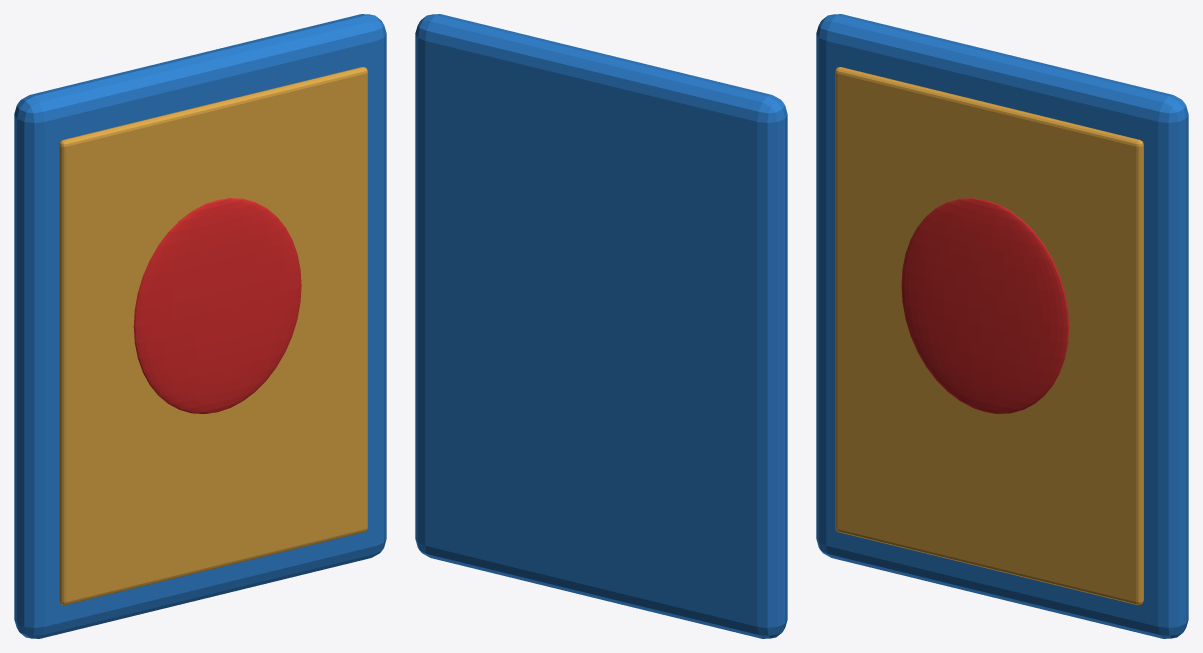
The model's file is carte-sportive.glb.
3 views of the same model, side by side, from view 1: azimuth 30°, elevation 25°; view 2: azimuth 150°, elevation 25°; view 3: azimuth 330°, elevation 25° (orthographic).
Visible parts, largest first — view 1: Cadre, Carte, Portrait; view 2: Carte; view 3: Cadre, Carte, Portrait.
Part boxes in pixels (<box>): Cadre: <box>59,67,367,605</box>; Carte: <box>14,14,386,638</box>; Portrait: <box>133,198,301,413</box>; Carte: <box>415,14,787,638</box>; Cadre: <box>835,67,1143,605</box>; Carte: <box>816,14,1188,638</box>; Portrait: <box>901,198,1069,413</box>.
Bounding box in the file's own units: 2.1 × 2.96 × 0.31.
